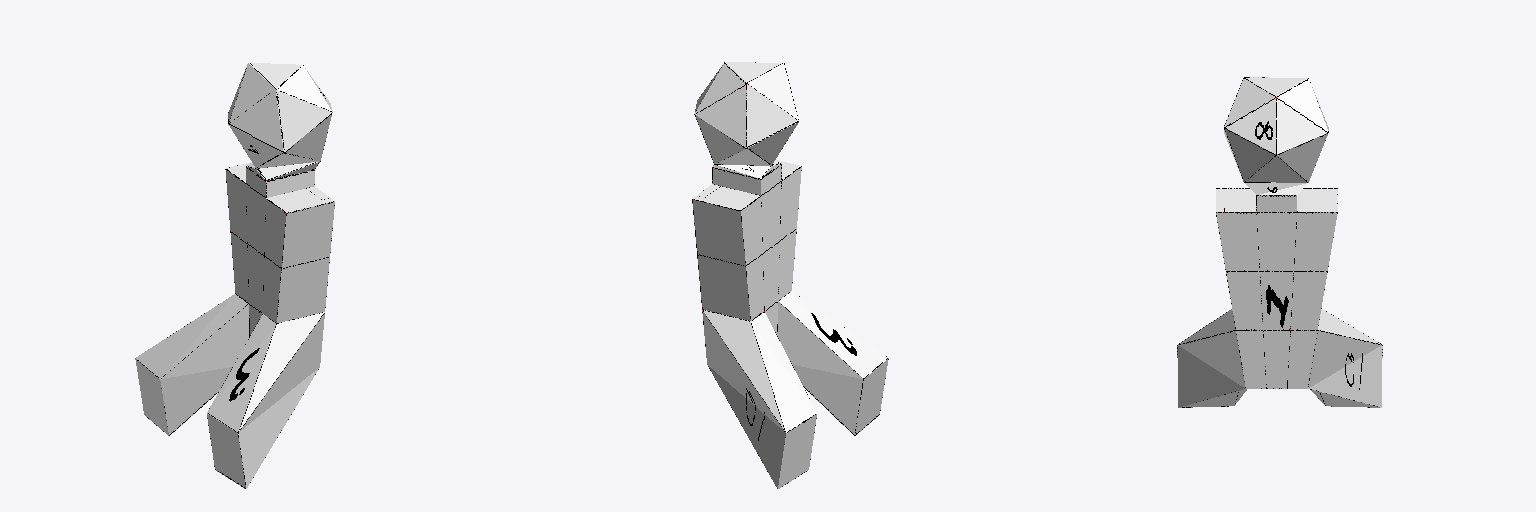
The picture shows the model from 3 angles: view 1: azimuth 30°, elevation 25°; view 2: azimuth 150°, elevation 25°; view 3: azimuth 270°, elevation 25°; orthographic projection.
Size of the model in its own units: 0.271 by 0.6478 by 0.3319.
1 materials, 1 textured.